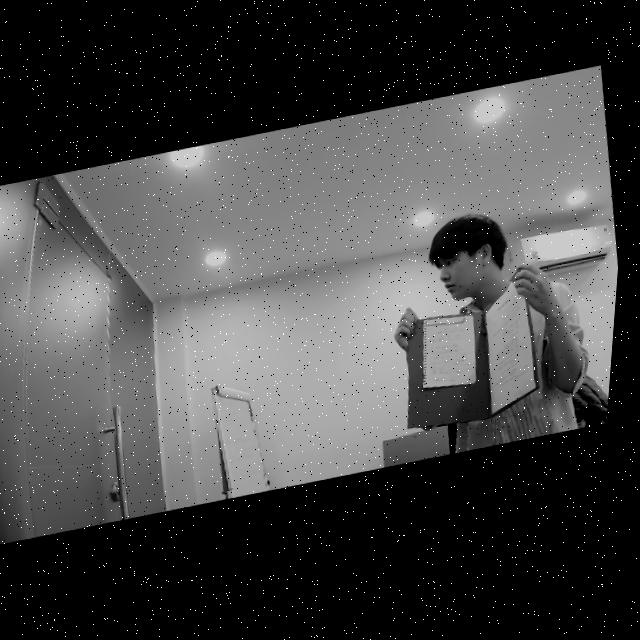document: (486, 274, 536, 414), (423, 315, 477, 387)
face: (420, 202, 496, 307)
